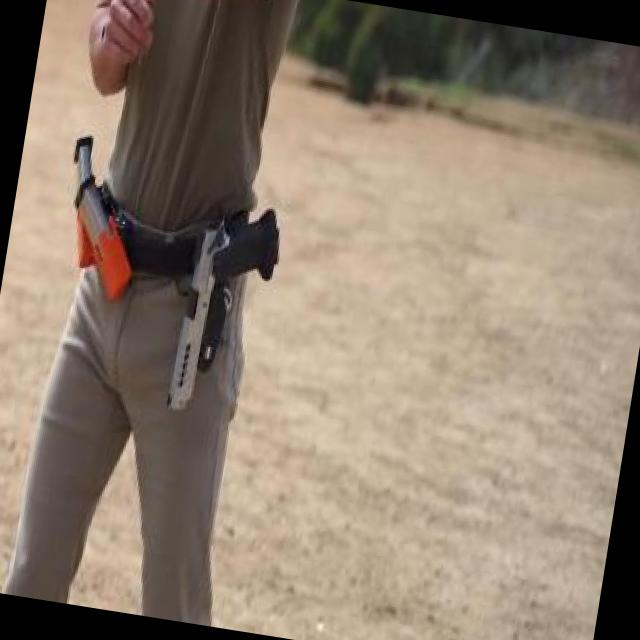Guns: (134, 164, 316, 423)
